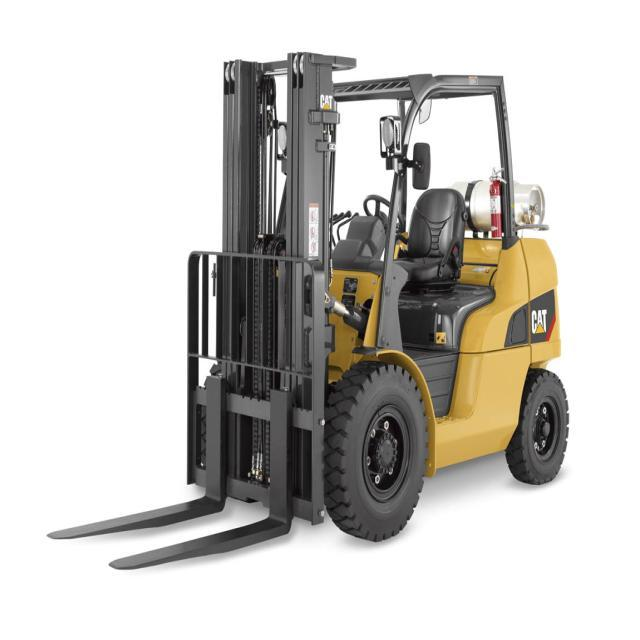forklift: (184, 46, 582, 549)
